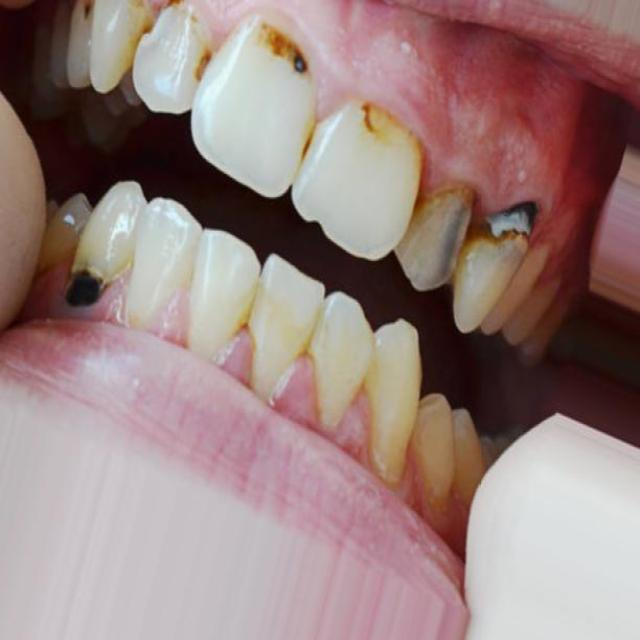caries: (48, 247, 124, 337), (478, 184, 547, 258), (263, 23, 316, 86), (351, 90, 398, 144), (123, 0, 174, 47), (180, 45, 218, 90)
